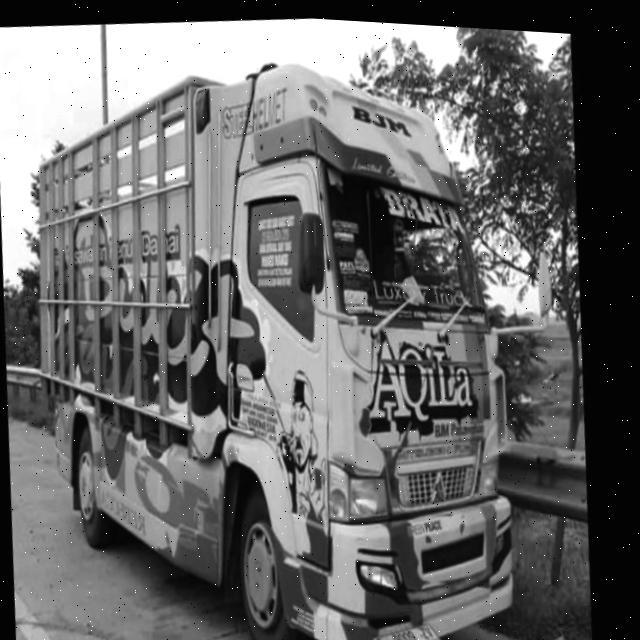truck: (3, 19, 599, 640)
